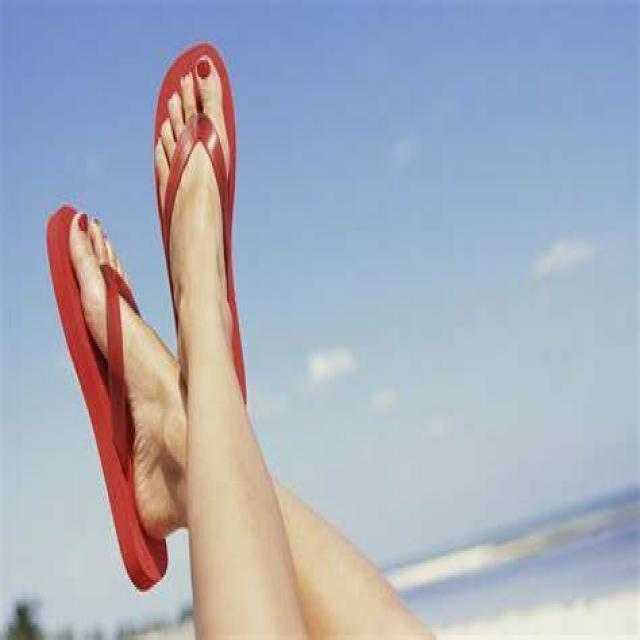No_Shoe: (50, 198, 170, 578), (148, 31, 254, 356)
